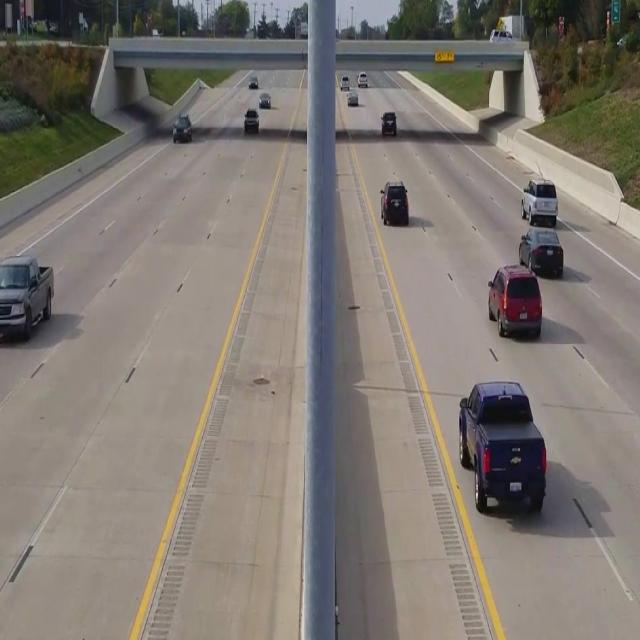car: (0, 254, 54, 343), (488, 264, 542, 339), (518, 226, 563, 276), (380, 181, 408, 226), (172, 114, 192, 142), (381, 111, 396, 135), (244, 108, 258, 132)
